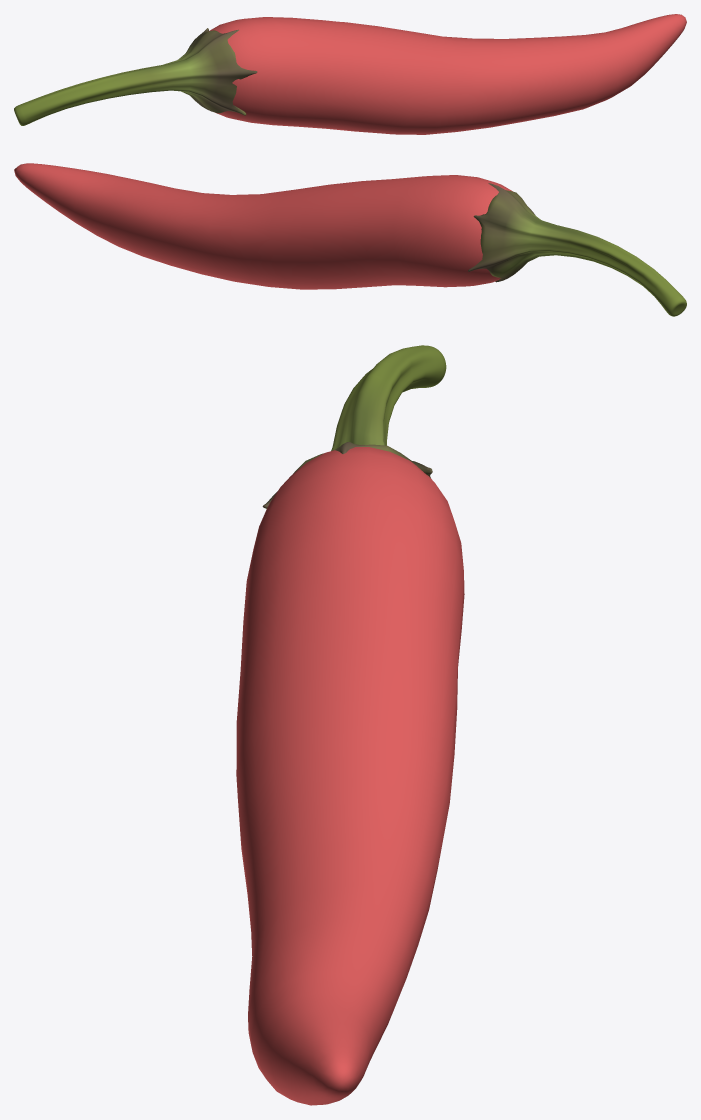
Rendered from Cili.fbx.
The picture shows the model from 3 angles, top to bottom: view 1: azimuth 30°, elevation 25°; view 2: azimuth 150°, elevation 25°; view 3: azimuth 270°, elevation 25°; orthographic projection. The views are drawn at different scales.
Parts seen in each view (by area): view 1: cili; view 2: cili; view 3: cili.
Boxes of the visible parts, bbox=[...] form: cili: bbox=[14, 14, 686, 134]; cili: bbox=[14, 163, 686, 316]; cili: bbox=[236, 345, 464, 1105].
Size of the model in its own units: 30.61 by 6.85 by 4.65.
